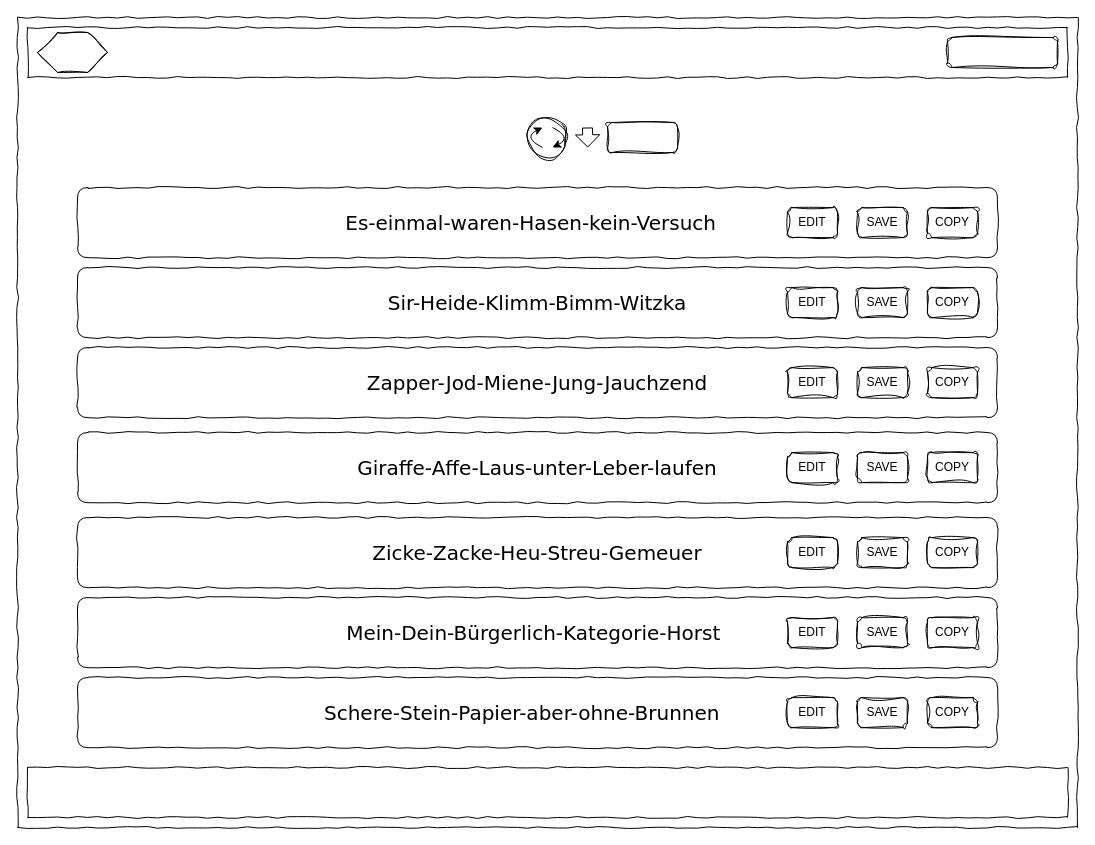
The diagram is 1095 pixels wide and 845 high, and some of its shapes have lost their labels. The shapes that lost their labels are listed below. From the top down, each one's centre as x and y in pixels, then its label:
At (72,52): "LOGO".
At (1002,52): "Meine Phrasen".
At (642,137): "EXPORT".
At (547,792): "Impressum".
